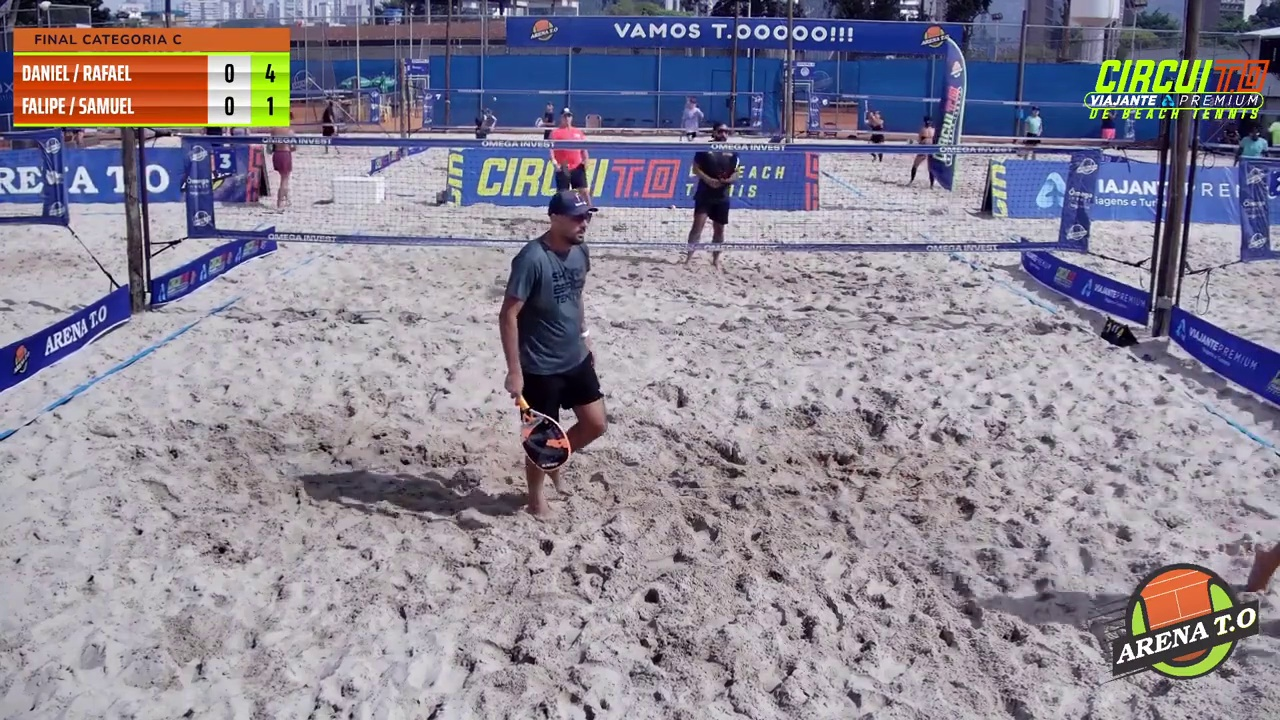court_line: (646, 0, 790, 362)
